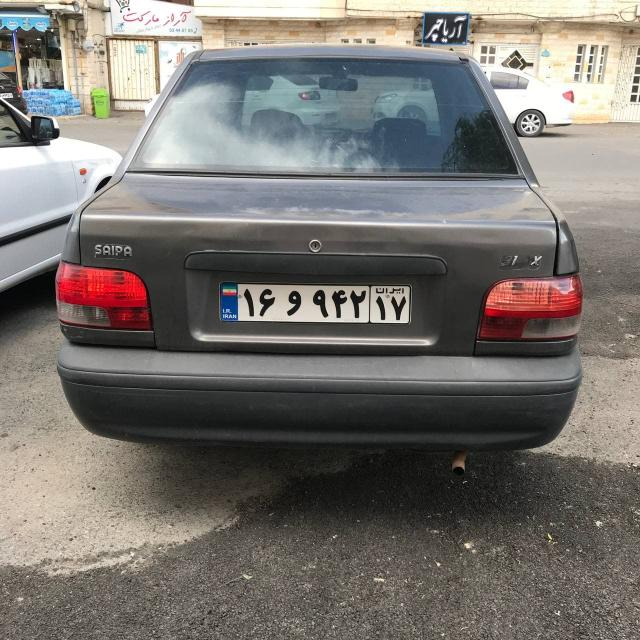Plates: (220, 283, 411, 324)
